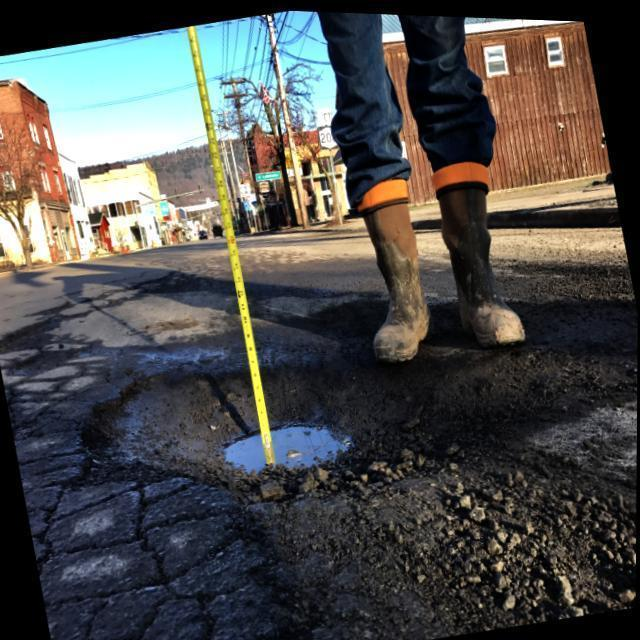Pothole: (71, 335, 640, 640)
